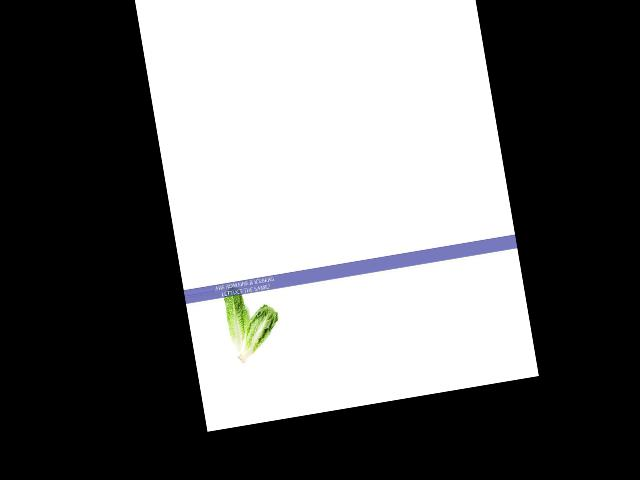lettuce: (227, 298, 283, 364)
